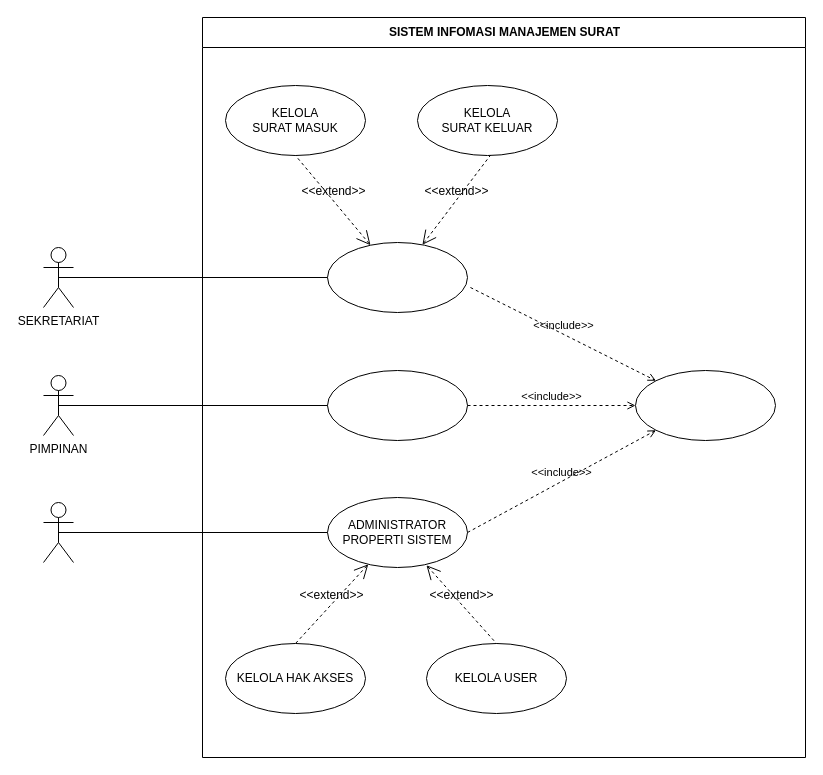
Image size: 823x775. Some labels were removed from this diagram. The shapes that lost their labels are listed below. From the top down, each one's centre as x and y in pixels, then its label:
At point 397,277: "MENGELOLA DATA SURAT".
At point 397,405: "DISPOSISI SURAT MASUK".
At point 705,405: "LOGIN".
At point 58,532: "ADMIN".
